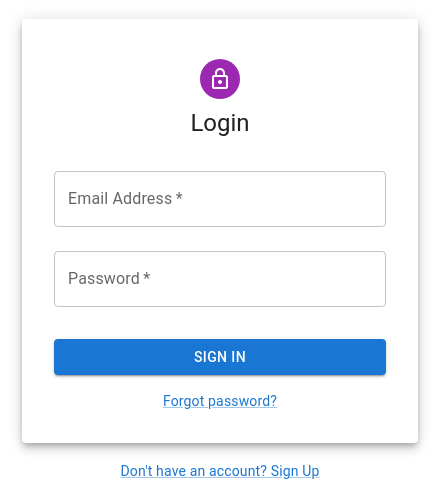
Test: SignIn Page › disables submit button during loading
The width and height of the screenshot is (441, 496).
Type "test@example.com" into the field labelled "Email Address *" at {"x": 220, "y": 199}, box [54,171,386,227]
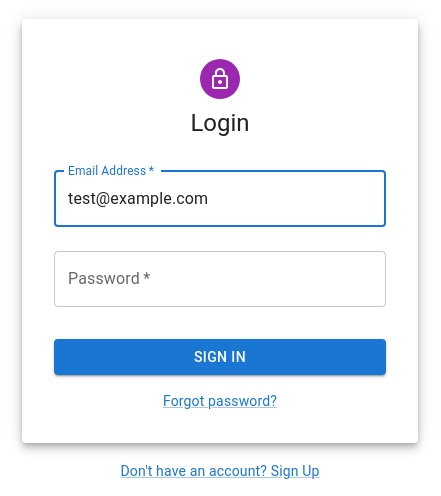
Type "password123" into the password field labelled "Password *" at {"x": 220, "y": 279}, box [54,251,386,307]
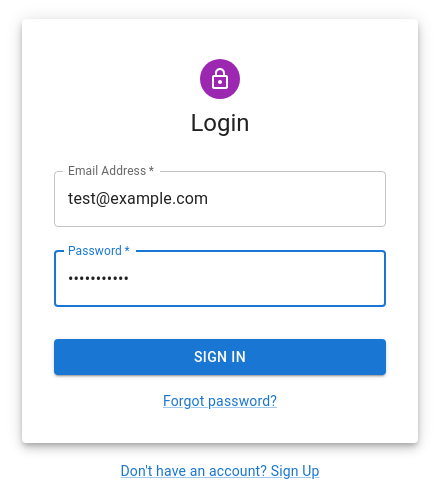
Click the button "Sign In" at {"x": 220, "y": 357}, box [54,339,386,375]
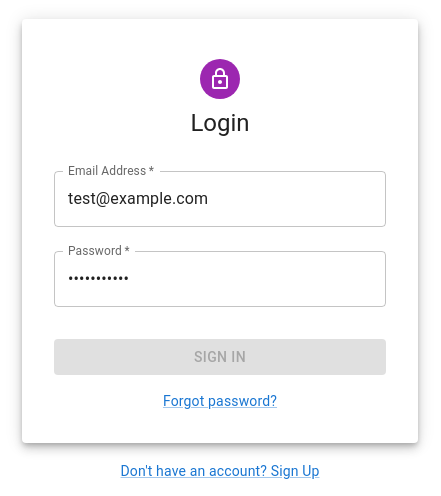
Check: the button "Sign In" is disabled, box [54,339,386,375]
